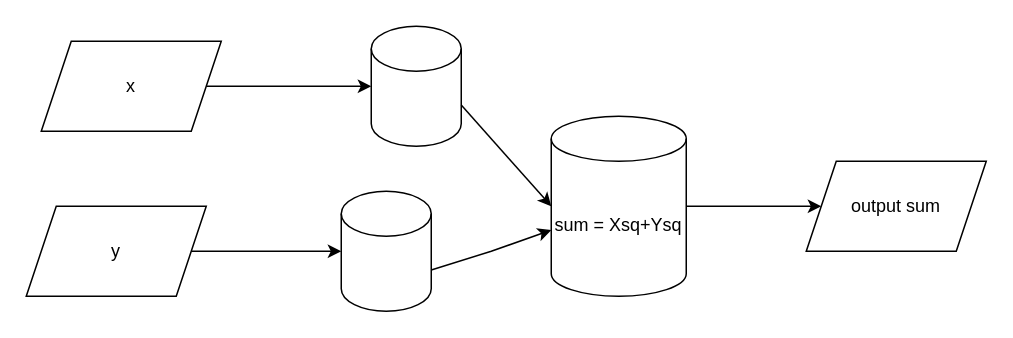
Some shapes in this 1013 by 338 pixel diagram are drawn without their labels. Each missing label, with the centre of its shape:
Xsq=x*x: the point at 415,85
Ysq=y*y: the point at 385,250
